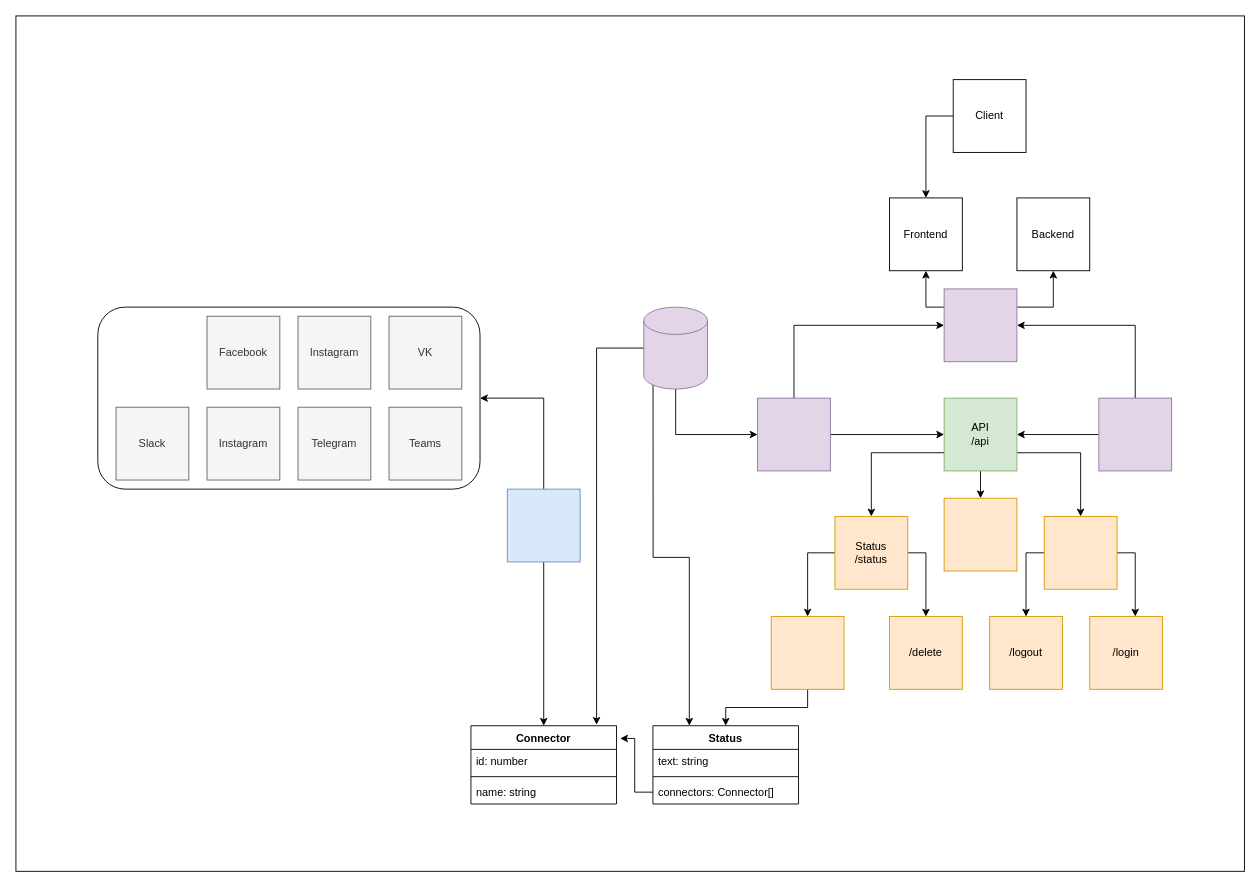
Some shapes in this 1260 by 887 pixel diagram are drawn without their labels. The shapes that lost their labels are listed below. From the top down, each one's centre as x and y in pixels, then its label:
At point 980,325: "Docker".
At point 675,347: "MySQL".
At point 793,434: "Node.js".
At point 1135,434: "React.js".
At point 543,525: "Configs".
At point 980,534: "Swagger /swagger".
At point 1080,552: "User /user".
At point 807,652: "/update".
